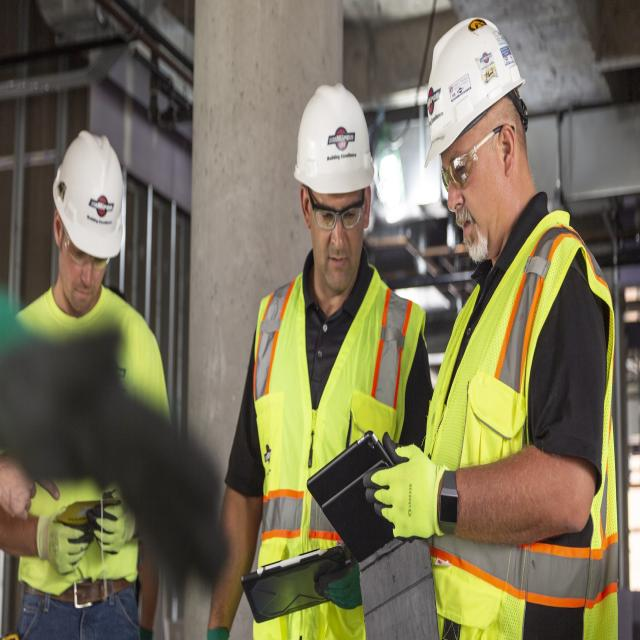Gloves: (362, 433, 461, 544), (30, 500, 91, 579), (310, 544, 368, 610), (93, 483, 138, 564), (204, 621, 233, 640)
Hard Hat: (420, 8, 533, 161), (293, 74, 382, 204), (47, 124, 125, 265)
Reflective Vest: (432, 201, 621, 632), (240, 259, 436, 638), (7, 470, 136, 606)
Safety Glasses: (439, 120, 518, 192), (305, 189, 371, 240), (52, 214, 114, 267)
